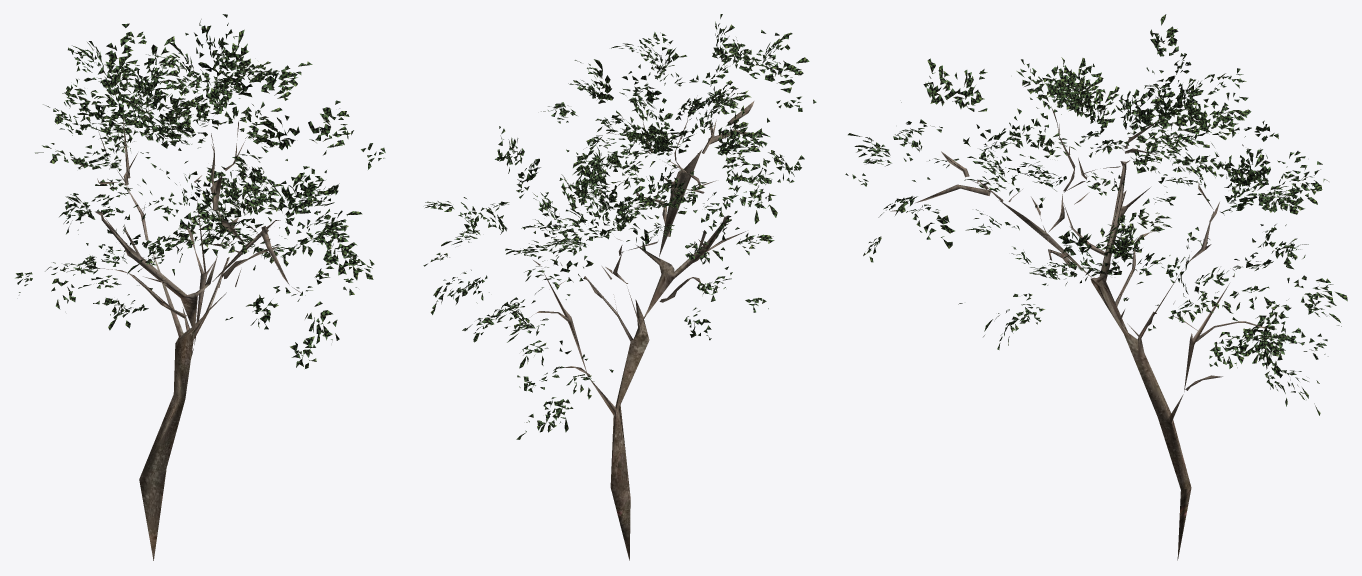
The model's file is tree_small_02.lod.glb.
The picture shows the model from 3 angles, left to right: view 1: azimuth 30°, elevation 25°; view 2: azimuth 150°, elevation 25°; view 3: azimuth 270°, elevation 25°; orthographic projection. The views are drawn at different scales.
Visible parts, largest first — view 1: tree_small_02_LOD0; view 2: tree_small_02_LOD0; view 3: tree_small_02_LOD0.
Part boxes in pixels (left/top/right/bottom): tree_small_02_LOD0: left=15, top=14, right=385, bottom=560; tree_small_02_LOD0: left=423, top=14, right=816, bottom=560; tree_small_02_LOD0: left=845, top=14, right=1347, bottom=560.
Bounding box in the file's own units: 2.86 × 4.53 × 4.07.
Materials: 3 (3 with a texture image).
